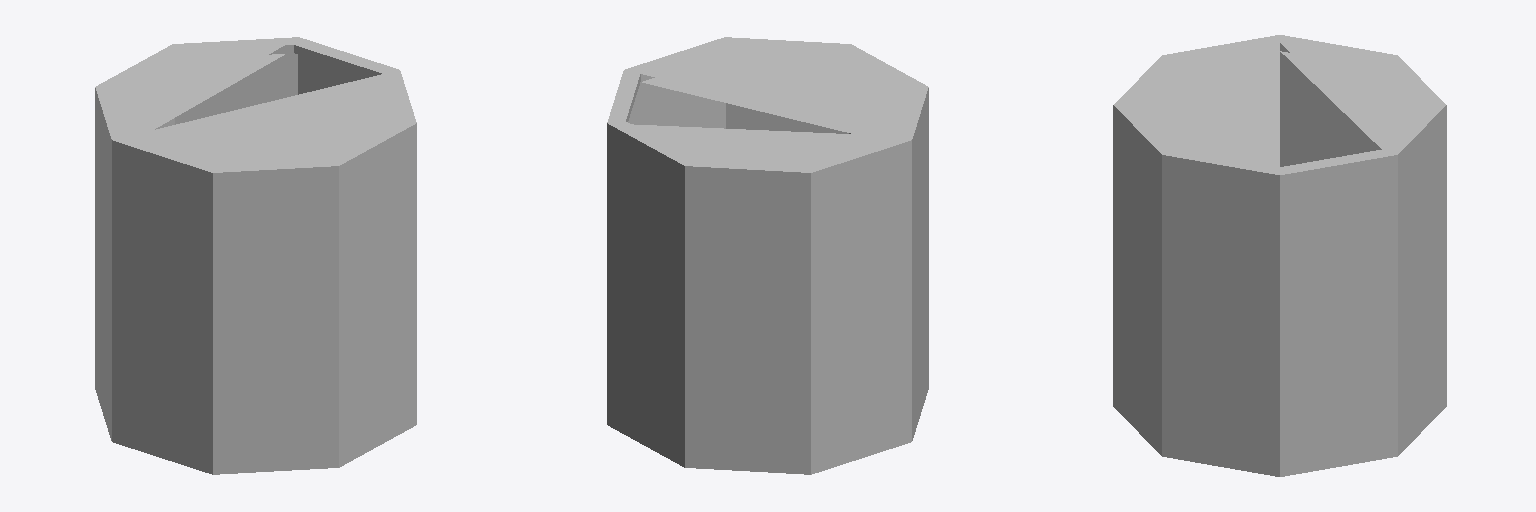
File: interstage_fairing_2m_simple.obj
3 renders of one model, left to right at view 1: azimuth 30°, elevation 25°; view 2: azimuth 150°, elevation 25°; view 3: azimuth 270°, elevation 25°, orthographic.
Visible parts, largest first — view 1: Cylinder; view 2: Cylinder; view 3: Cylinder.
Boxes of the visible parts, x1=… form: Cylinder: x1=95, y1=37, x2=416, y2=474; Cylinder: x1=607, y1=37, x2=928, y2=474; Cylinder: x1=1113, y1=35, x2=1446, y2=476.
Size of the model in its own units: 2 by 2 by 2.